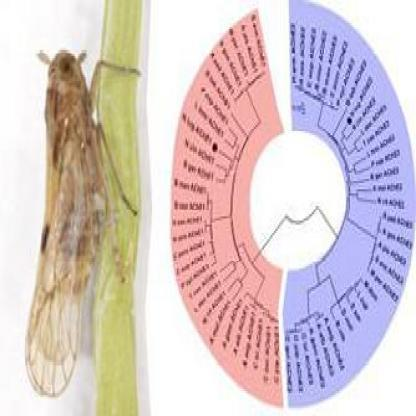brown-planthopper: (30, 38, 108, 402)
